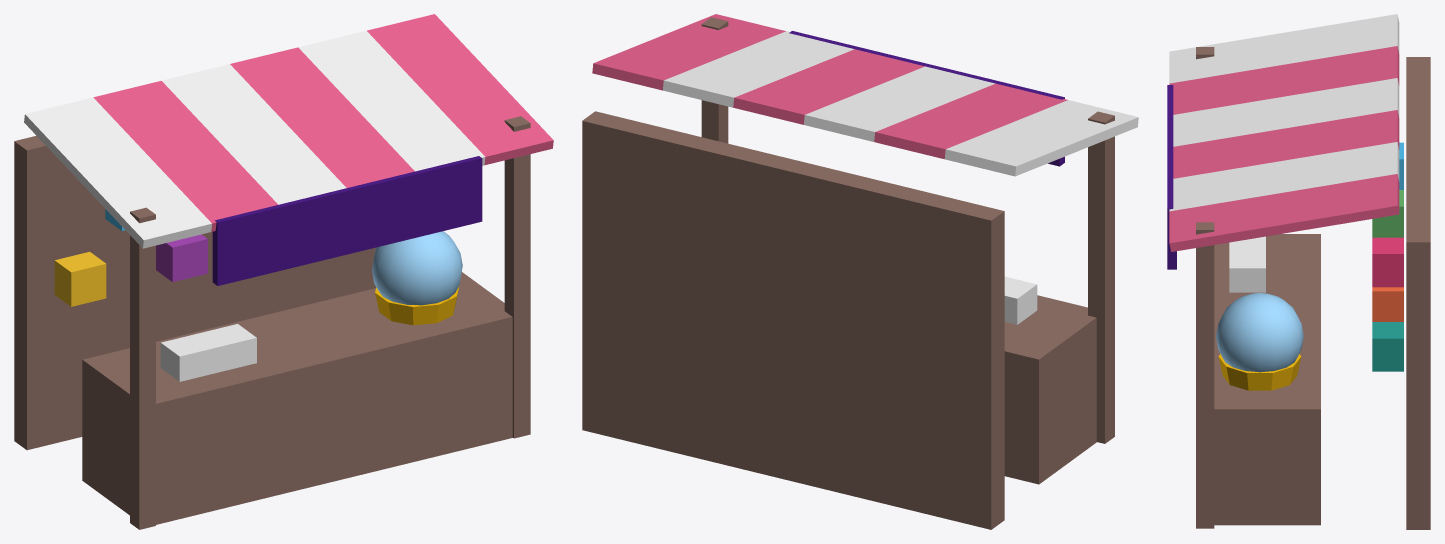
Rendered from exits_kiosk.glb.
3 renders of one model, left to right at view 1: azimuth 30°, elevation 25°; view 2: azimuth 150°, elevation 25°; view 3: azimuth 270°, elevation 25°, orthographic. The views are drawn at different scales.
Parts seen in each view (by area): view 1: ExitsKiosk_body; view 2: ExitsKiosk_body; view 3: ExitsKiosk_body.
Part boxes in pixels (<box>): ExitsKiosk_body: <box>14,14,553,529</box>; ExitsKiosk_body: <box>582,14,1138,529</box>; ExitsKiosk_body: <box>1167,14,1430,529</box>.
Size of the model in its own units: 3.72 by 2.96 by 2.16.
